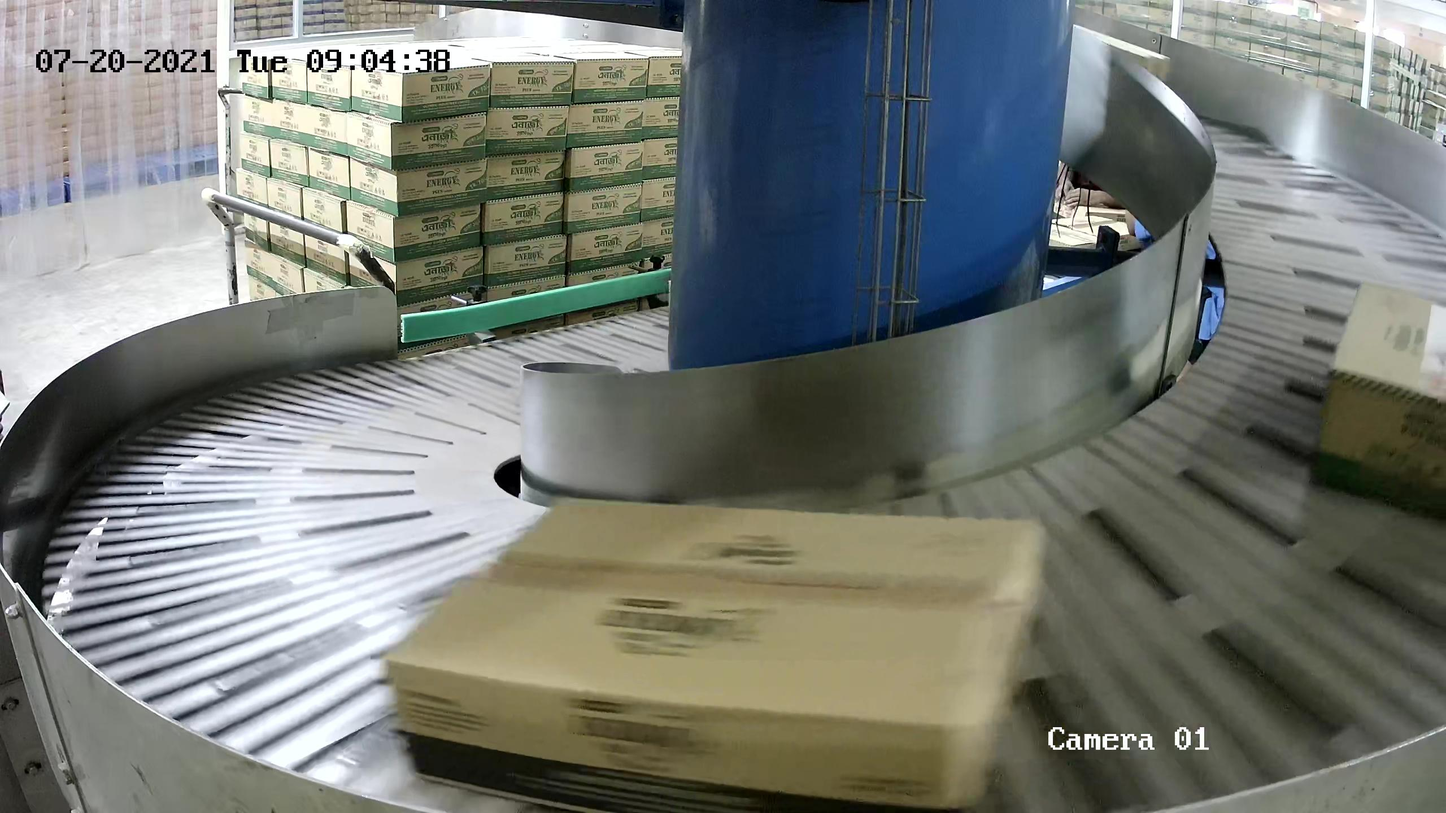Box: (380, 496, 1043, 813), (1311, 280, 1446, 513)
